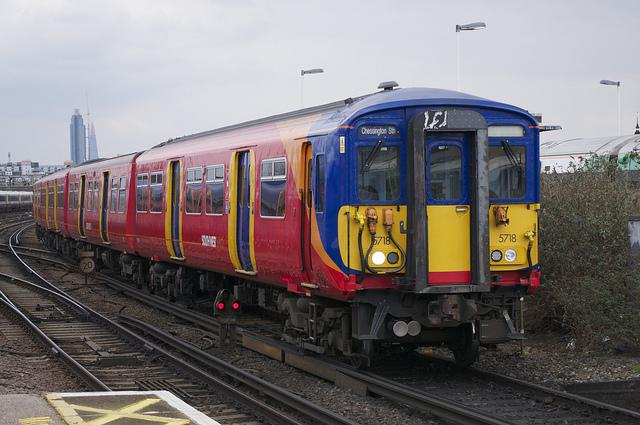Train: (32, 91, 555, 364)
